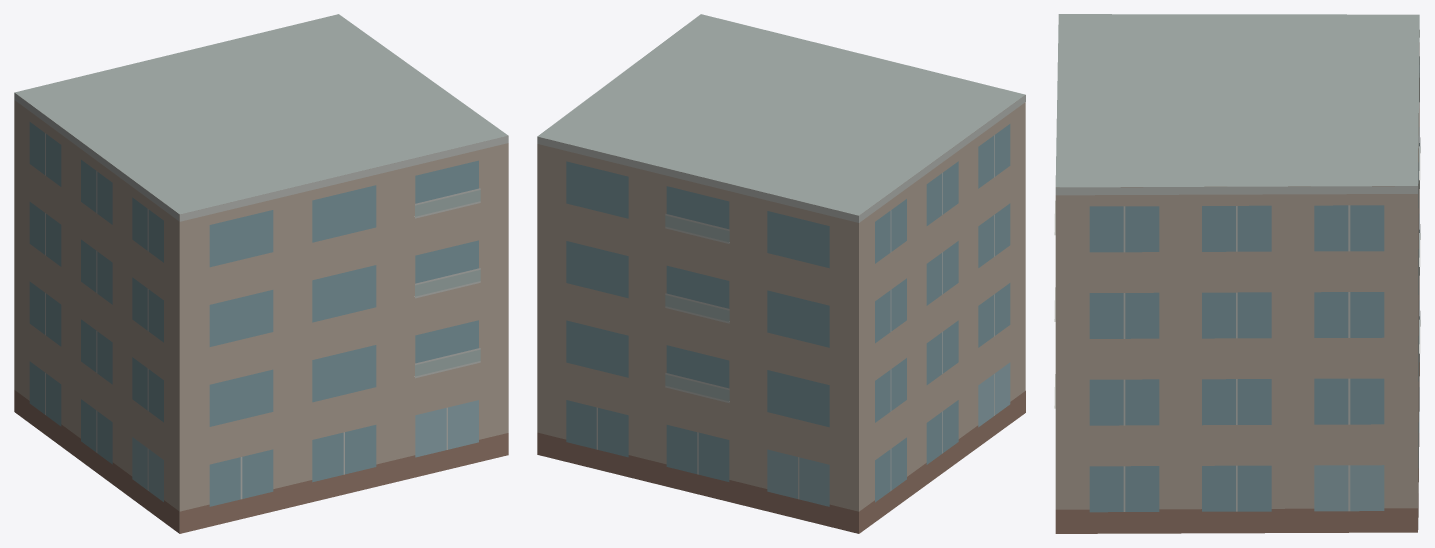
File: survey-upis-33014615.glb
3 renders of one model, left to right at view 1: azimuth 30°, elevation 25°; view 2: azimuth 150°, elevation 25°; view 3: azimuth 270°, elevation 25°, orthographic. The views are drawn at different scales.
Parts seen in each view (by area): view 1: survey-upis-33014615.tmp; view 2: survey-upis-33014615.tmp; view 3: survey-upis-33014615.tmp.
Boxes of the visible parts, x1,y1,x2,y2 form: survey-upis-33014615.tmp: (14,14,508,533); survey-upis-33014615.tmp: (537,14,1025,533); survey-upis-33014615.tmp: (1054,14,1420,533).
Bounding box in the file's own units: 11.44 × 10.65 × 10.2.
